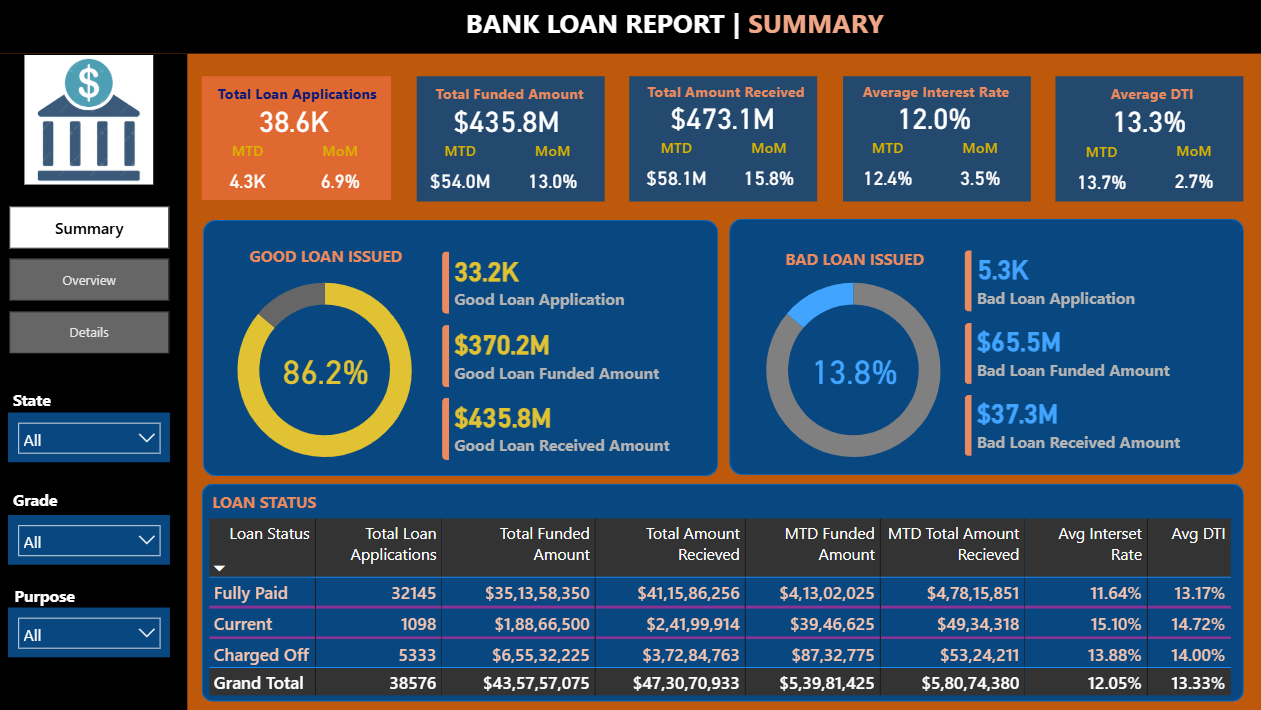

What the dashboard file says about the page in this screenshot:
{"tool":"powerbi","page":{"name":"Summary","canvas":[1280,720],"ordinal":0},"visuals":[{"type":"shape","box":[0,54.8,191.7,665.9],"z":0},{"type":"card","fields":{"Values":["bank_loan_db bank_loan.Total Amount Recieved"]},"box":[640.2,77.8,186.8,83.7],"z":0,"group":"g3"},{"type":"card","fields":{"Values":["bank_loan_db bank_loan.Average Interset Rate"]},"box":[855,77.8,186.8,83.7],"z":0,"group":"g4"},{"type":"card","fields":{"Values":["bank_loan_db bank_loan.Total Loan Applications"]},"box":[206.3,79.3,186.8,83.7],"z":0,"group":"g1"},{"type":"card","fields":{"Values":["bank_loan_db bank_loan.Total Funded Amount"]},"box":[421.1,79.3,186.8,83.7],"z":0,"group":"g2"},{"type":"card","fields":{"Values":["bank_loan_db bank_loan.Average DTI"]},"box":[1071.7,79.3,186.8,83.7],"z":0,"group":"g5"},{"type":"textbox","box":[640.2,77.8,193.3,54.8],"z":1000,"group":"g3"},{"type":"textbox","box":[855,77.8,193.3,54.8],"z":1000,"group":"g4"},{"type":"textbox","box":[206.3,79.3,193.3,54.8],"z":1000,"group":"g1"},{"type":"textbox","box":[421.1,79.3,193.3,54.8],"z":1000,"group":"g2"},{"type":"textbox","box":[1071.7,79.3,193.3,54.8],"z":1000,"group":"g5"},{"type":"shape","box":[207.3,222.6,521.8,259.5],"z":1000},{"type":"card","title":"MTD","fields":{"Values":["bank_loan_db bank_loan.MTD Total Amount Recieved"]},"box":[640,139.7,93.3,63.4],"z":2000,"group":"g3"},{"type":"card","title":"MTD","fields":{"Values":["bank_loan_db bank_loan.MTD Avrage Interset Rate"]},"box":[854.8,139.7,93.3,63.4],"z":2000,"group":"g4"},{"type":"card","title":"MTD","fields":{"Values":["bank_loan_db bank_loan.MTD Loan Applications"]},"box":[206.1,141.2,93.3,63.4],"z":2000,"group":"g1"},{"type":"card","title":"MTD","fields":{"Values":["bank_loan_db bank_loan.MTD Total Funded Amount"]},"box":[420.9,141.2,93.3,63.4],"z":2000,"group":"g2"},{"type":"card","title":"MTD","fields":{"Values":["bank_loan_db bank_loan.MTD Average DTI"]},"box":[1071,142,93.7,63.4],"z":2000,"group":"g5"},{"type":"donutChart","fields":{"Y":["bank_loan_db bank_loan.Total Loan Applications"],"Category":["bank_loan_db bank_loan.Good Vs Bad Loan"]},"box":[206.1,259.5,249.4,230.6],"z":2000},{"type":"card","title":"MoM","fields":{"Values":["bank_loan_db bank_loan.MoM Total Amount Received"]},"box":[733.3,139.7,93.3,63.4],"z":3000,"group":"g3"},{"type":"card","title":"MoM","fields":{"Values":["bank_loan_db bank_loan.MoM Average Interest Rate"]},"box":[948.1,139.7,93.3,63.4],"z":3000,"group":"g4"},{"type":"card","title":"MoM","fields":{"Values":["bank_loan_db bank_loan.MoM Loan Applications"]},"box":[299.4,141.2,93.3,63.4],"z":3000,"group":"g1"},{"type":"card","title":"MoM","fields":{"Values":["bank_loan_db bank_loan.MoM Total Funded Amount"]},"box":[514.2,141.2,93.3,63.4],"z":3000,"group":"g2"},{"type":"card","title":"MoM","fields":{"Values":["bank_loan_db bank_loan.MoM Average DTI"]},"box":[1164.8,141.2,93.3,63.4],"z":3000,"group":"g5"},{"type":"textbox","box":[235,243.6,193.2,54.8],"z":3000},{"type":"shape","box":[0,0,1280,54.3],"z":4000},{"type":"card","fields":{"Values":["bank_loan_db bank_loan.Good Loan %"]},"box":[278.2,333,106.7,83.6],"z":5000},{"type":"textbox","box":[430.7,0,510.3,54.3],"z":6000},{"type":"shape","box":[206.1,77.8,191.7,125.4],"z":7000},{"type":"group","id":"g1","title":"Group 1","box":[206.1,79.3,193.2,125.4],"z":8000},{"type":"shape","box":[423.4,77.8,190.3,126.8],"z":9000},{"type":"group","id":"g2","title":"Group 1","box":[420.9,79.3,193.2,125.4],"z":10000},{"type":"shape","box":[639.3,77.8,190.3,126.8],"z":11000},{"type":"group","id":"g3","title":"Group 1","box":[640,77.8,193.2,125.4],"z":12000},{"type":"shape","box":[855.1,77.8,190.3,126.8],"z":13000},{"type":"group","id":"g4","title":"Group 1","box":[854.8,77.8,193.2,125.4],"z":14000},{"type":"shape","box":[1071,77.8,190.3,126.8],"z":15000},{"type":"group","id":"g5","title":"Group 1","box":[1071,79.3,193.2,125.4],"z":16000},{"type":"shape","box":[740.8,222,521.2,259.4],"z":17000},{"type":"cardVisual","fields":{"Data":["bank_loan_db bank_loan.Good Loan Application","bank_loan_db bank_loan.Good Loan Funded Amount","bank_loan_db bank_loan.Good Loan Received Amount"]},"box":[432.4,237.8,296.9,245],"z":18000},{"type":"card","fields":{"Values":["bank_loan_db bank_loan.Bad Loan %"]},"box":[814.4,333,106.7,83.6],"z":19000},{"type":"donutChart","fields":{"Y":["bank_loan_db bank_loan.Total Loan Applications"],"Category":["bank_loan_db bank_loan.Good Vs Bad Loan"]},"box":[742.3,259.5,249.4,230.6],"z":20000},{"type":"textbox","box":[771.2,245,193.2,54.8],"z":21000},{"type":"shape","box":[206.1,490.1,1055.1,220.5],"z":22000},{"type":"cardVisual","fields":{"Data":["bank_loan_db bank_loan.Bad Loan Application","bank_loan_db bank_loan.Bad Loan Funded Amount","bank_loan_db bank_loan.Bad Loan Received Amount"]},"box":[961.5,236.5,296.8,244.9],"z":23000},{"type":"tableEx","fields":{"Values":["bank_loan_db bank_loan.loan_status","bank_loan_db bank_loan.Total Loan Applications","bank_loan_db bank_loan.Total Funded Amount","bank_loan_db bank_loan.Total Amount Recieved","bank_loan_db bank_loan.MTD Total Funded Amount","bank_loan_db bank_loan.MTD Total Amount Recieved","bank_loan_db bank_loan.Average Interset Rate","bank_loan_db bank_loan.Average DTI"]},"box":[207.5,520,1059.3,190.6],"z":24000},{"type":"textbox","box":[207.6,493,193.2,54.8],"z":25000},{"type":"slicer","fields":{"Values":["bank_loan_db bank_loan.address_state"]},"box":[10.1,418,164.3,50.5],"z":26000},{"type":"textbox","box":[10.1,389.2,82.2,57.7],"z":27000},{"type":"textbox","box":[10.1,490.1,82.2,57.7],"z":28000},{"type":"slicer","fields":{"Values":["bank_loan_db bank_loan.grade"]},"box":[10.1,521.8,164.3,50.5],"z":29000},{"type":"slicer","fields":{"Values":["bank_loan_db bank_loan.purpose"]},"box":[10.1,615.5,164.3,50.5],"z":30000},{"type":"textbox","box":[12,587.7,82.2,57.7],"z":31000},{"type":"image","box":[23.1,56.2,138.4,131.2],"z":32000},{"type":"pageNavigator","box":[11.5,209,162.9,151.4],"z":33000}]}

Visuals, with their boxes in screenshot pixels (x1, y1, x2, y2), scaled from the page's 1280x720 canvas onto the 1261x710 screenshot:
shape: 0 54 189 709
card - bank_loan_db bank_loan.Total Amount Recieved: 631 77 815 159
card - bank_loan_db bank_loan.Average Interset Rate: 842 77 1026 159
card - bank_loan_db bank_loan.Total Loan Applications: 203 78 387 161
card - bank_loan_db bank_loan.Total Funded Amount: 415 78 599 161
card - bank_loan_db bank_loan.Average DTI: 1056 78 1240 161
textbox: 631 77 821 131
textbox: 842 77 1033 131
textbox: 203 78 394 132
textbox: 415 78 605 132
textbox: 1056 78 1246 132
shape: 204 220 718 475
"MTD" card: 630 138 722 200
"MTD" card: 842 138 934 200
"MTD" card: 203 139 295 202
"MTD" card: 415 139 507 202
"MTD" card: 1055 140 1147 203
donutChart - bank_loan_db bank_loan.Total Loan Applications x bank_loan_db bank_loan.Good Vs Bad Loan: 203 256 449 483
"MoM" card: 722 138 814 200
"MoM" card: 934 138 1026 200
"MoM" card: 295 139 387 202
"MoM" card: 507 139 598 202
"MoM" card: 1148 139 1239 202
textbox: 232 240 422 294
shape: 0 0 1260 54
card - bank_loan_db bank_loan.Good Loan %: 274 328 379 411
textbox: 424 0 927 54
shape: 203 77 392 200
"Group 1" group: 203 78 393 202
shape: 417 77 605 202
"Group 1" group: 415 78 605 202
shape: 630 77 817 202
"Group 1" group: 630 77 821 200
shape: 842 77 1030 202
"Group 1" group: 842 77 1032 200
shape: 1055 77 1243 202
"Group 1" group: 1055 78 1245 202
shape: 730 219 1243 475
cardVisual - bank_loan_db bank_loan.Good Loan Application x bank_loan_db bank_loan.Good Loan Funded Amount: 426 234 718 476
card - bank_loan_db bank_loan.Bad Loan %: 802 328 907 411
donutChart - bank_loan_db bank_loan.Total Loan Applications x bank_loan_db bank_loan.Good Vs Bad Loan: 731 256 977 483
textbox: 760 242 950 296
shape: 203 483 1242 701
cardVisual - bank_loan_db bank_loan.Bad Loan Application x bank_loan_db bank_loan.Bad Loan Funded Amount: 947 233 1240 475
tableEx - bank_loan_db bank_loan.loan_status x bank_loan_db bank_loan.Total Loan Applications: 204 513 1248 701
textbox: 205 486 395 540
slicer - bank_loan_db bank_loan.address_state: 10 412 172 462
textbox: 10 384 91 441
textbox: 10 483 91 540
slicer - bank_loan_db bank_loan.grade: 10 515 172 564
slicer - bank_loan_db bank_loan.purpose: 10 607 172 657
textbox: 12 580 93 636
image: 23 55 159 185
pageNavigator: 11 206 172 355
